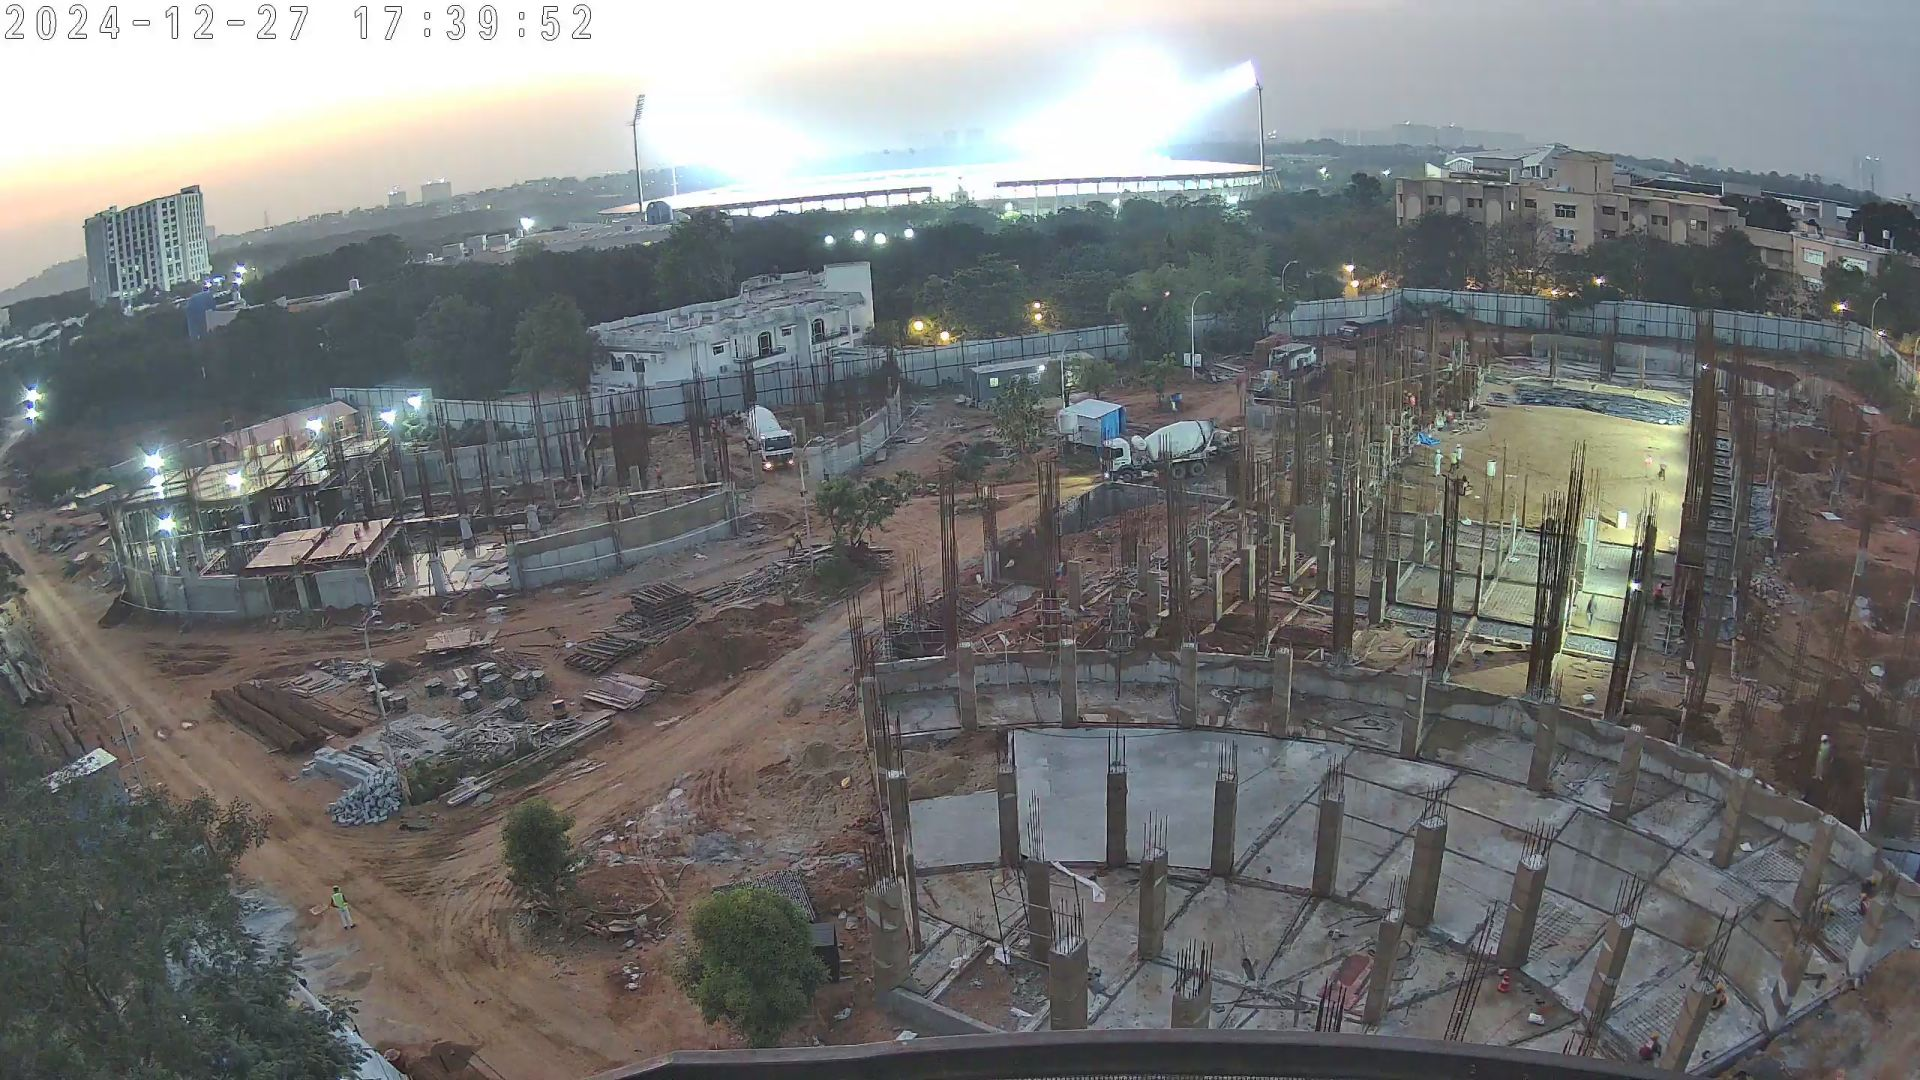truck: (1096, 418, 1226, 478), (746, 404, 796, 480), (1336, 314, 1393, 348), (1266, 340, 1317, 373)
worker: (327, 881, 354, 930), (1811, 727, 1831, 788), (1859, 871, 1877, 924), (1639, 1028, 1659, 1073), (1713, 976, 1729, 1021), (1651, 576, 1666, 617), (1583, 591, 1597, 634), (1484, 454, 1499, 491), (1433, 449, 1443, 481), (786, 536, 797, 559), (353, 522, 363, 546), (1659, 459, 1668, 484), (1399, 387, 1408, 409), (1407, 391, 1417, 410), (1455, 443, 1464, 464), (1446, 408, 1457, 425), (1451, 451, 1459, 473), (795, 533, 804, 550), (1309, 560, 1317, 578)
